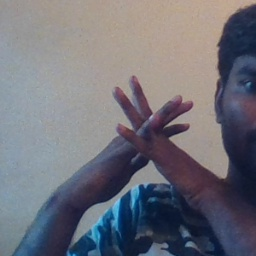W: (98, 68, 197, 191)
